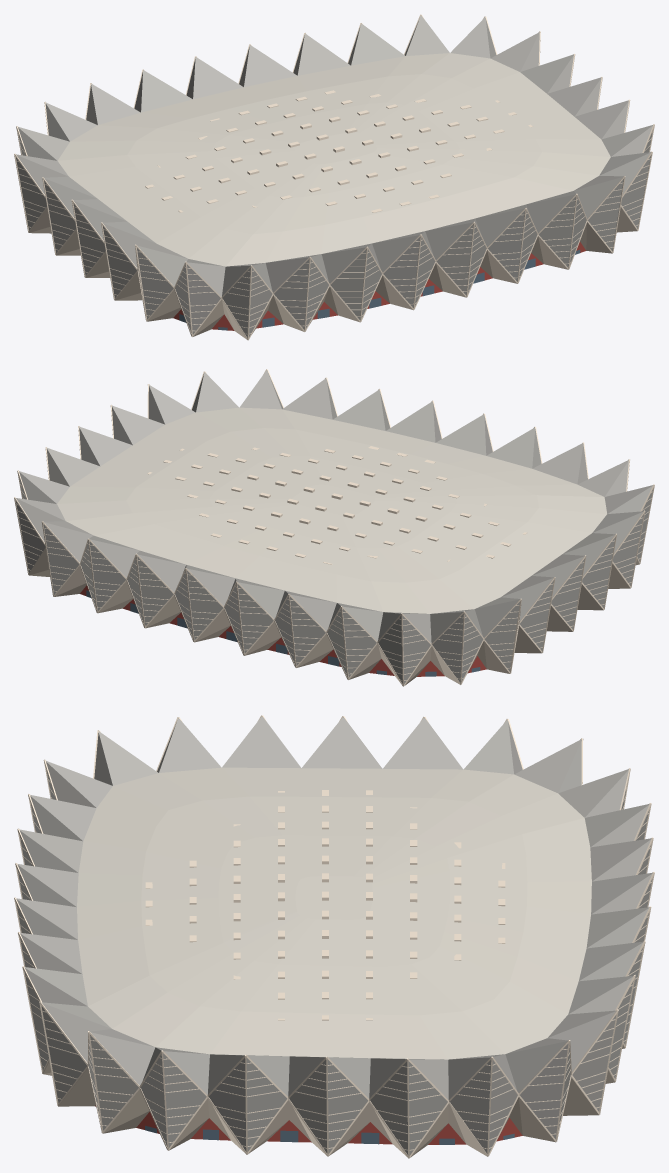
Rendered from baku-crystal-hall.detail.glb.
The picture shows the model from 3 angles, top to bottom: view 1: azimuth 30°, elevation 25°; view 2: azimuth 150°, elevation 25°; view 3: azimuth 270°, elevation 25°; orthographic projection. The views are drawn at different scales.
Parts seen in each view (by area): view 1: Baku Crystal Hall; view 2: Baku Crystal Hall; view 3: Baku Crystal Hall.
Part boxes in pixels (bbox=[...]): Baku Crystal Hall: bbox=[14, 14, 654, 340]; Baku Crystal Hall: bbox=[14, 369, 654, 686]; Baku Crystal Hall: bbox=[14, 715, 654, 1158].
Bounding box in the file's own units: 185 × 27.11 × 145.
